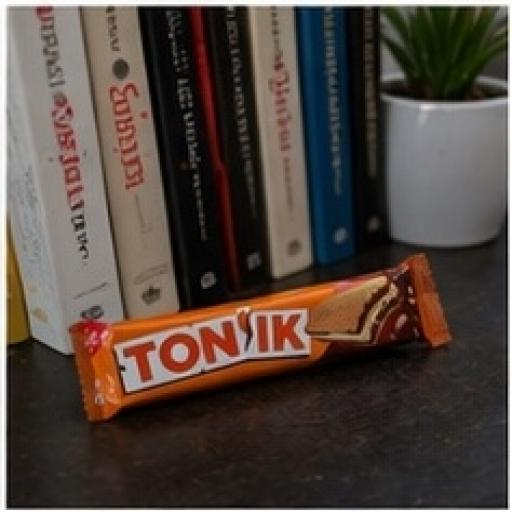tonik: (32, 243, 481, 427)
